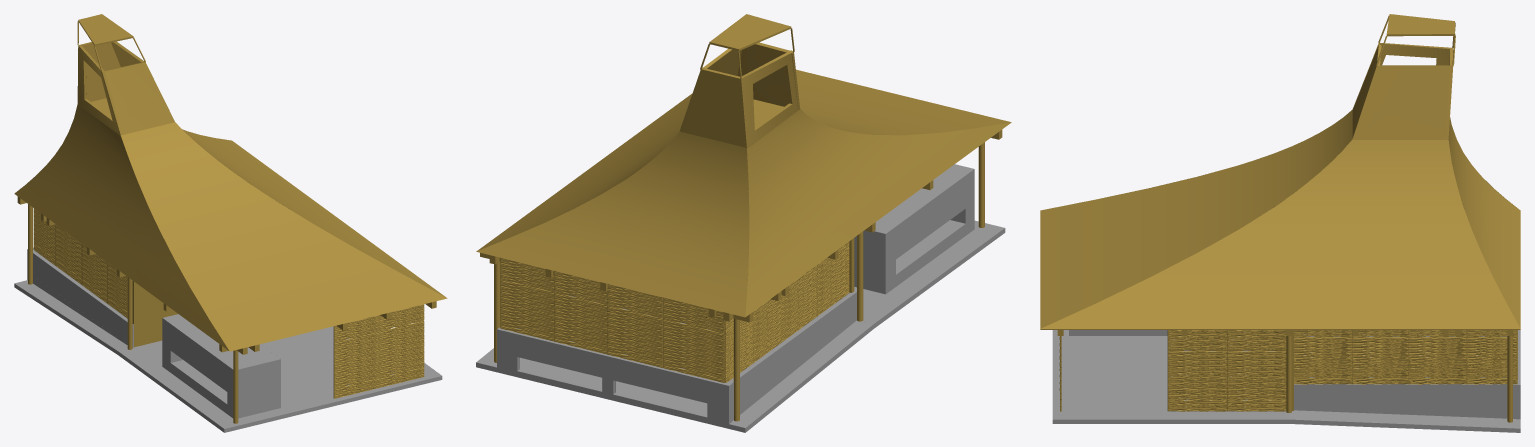
Rendered from siyang.glb.
3 renders of one model, left to right at view 1: azimuth 30°, elevation 25°; view 2: azimuth 150°, elevation 25°; view 3: azimuth 270°, elevation 25°, orthographic. The views are drawn at different scales.
Size of the model in its own units: 7 by 8.61 by 12.
